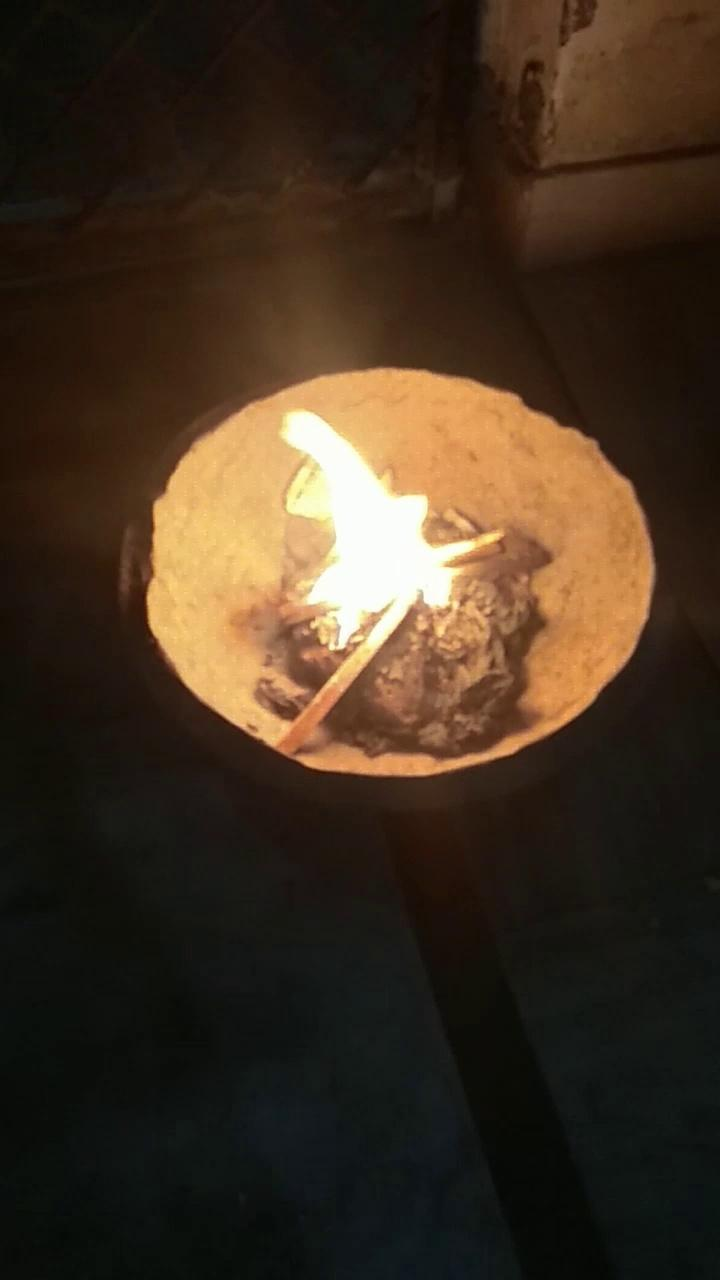fire: (236, 396, 498, 660)
